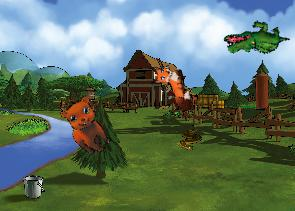bear: (53, 90, 123, 160)
crocodile: (221, 10, 290, 69)
fox: (147, 58, 194, 117)
